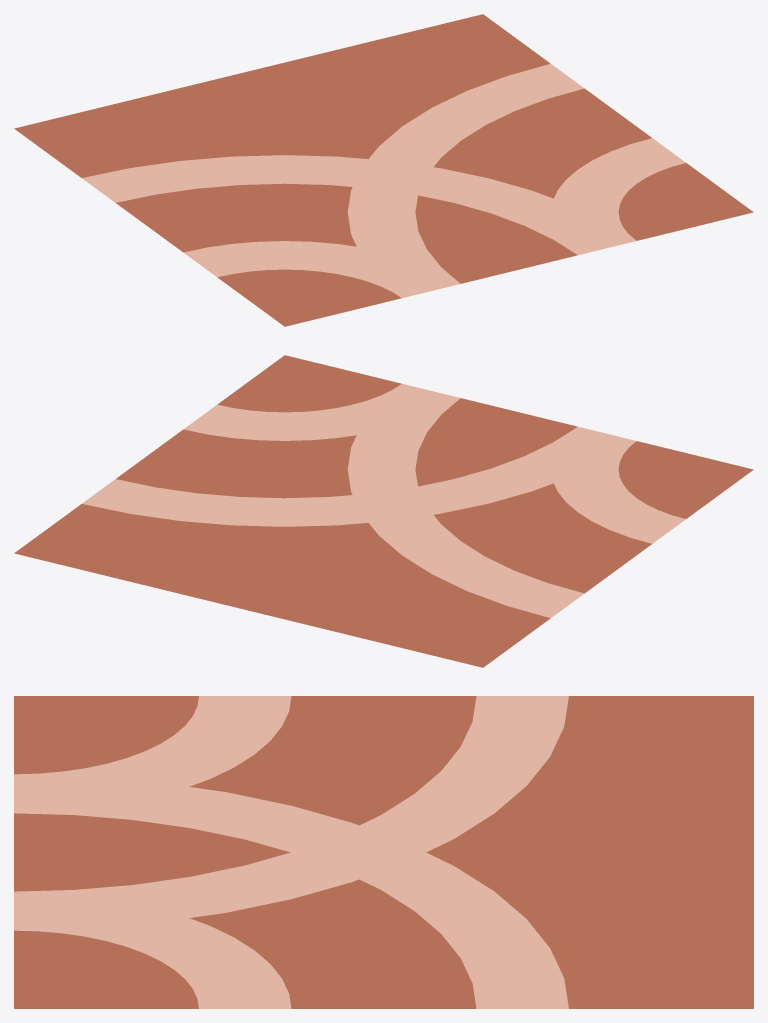
Rendered from terrain_roadSplit.glb.
3 renders of one model, top to bottom at view 1: azimuth 30°, elevation 25°; view 2: azimuth 150°, elevation 25°; view 3: azimuth 270°, elevation 25°, orthographic. The views are drawn at different scales.
Parts seen in each view (by area): view 1: terrain_roadSplit; view 2: terrain_roadSplit; view 3: terrain_roadSplit.
Part boxes in pixels (bbox=[...]): terrain_roadSplit: bbox=[14, 14, 753, 326]; terrain_roadSplit: bbox=[14, 355, 753, 667]; terrain_roadSplit: bbox=[14, 696, 753, 1008].
Bounding box in the file's own units: 1 × 4.8e-17 × 1.
